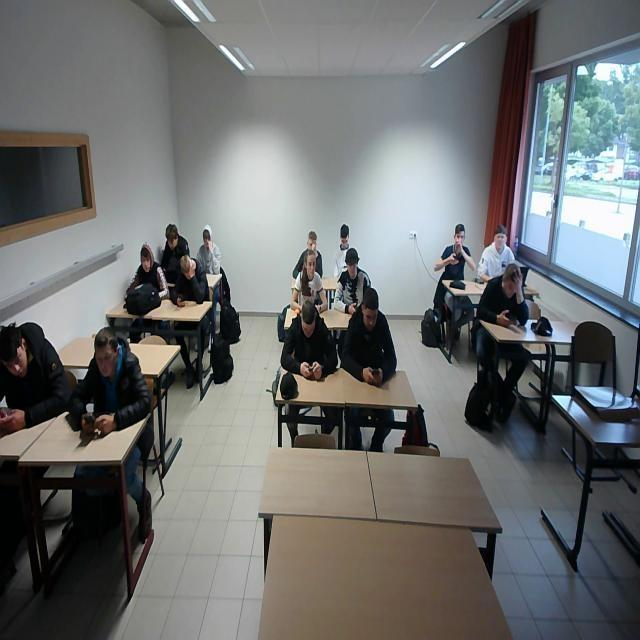phone_use: (67, 326, 149, 433), (340, 287, 395, 384), (280, 300, 336, 378), (476, 262, 527, 325), (333, 247, 369, 312), (170, 255, 207, 304)
